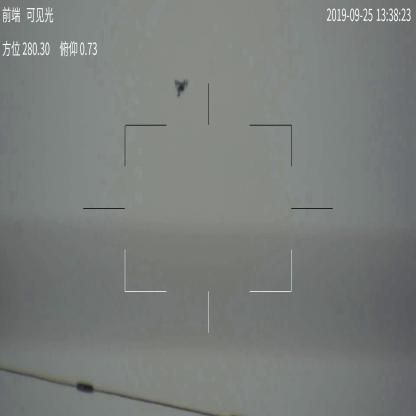uav: (174, 78, 188, 98)
